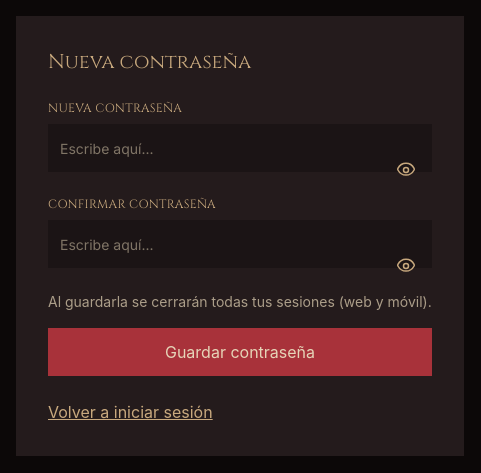
Test case: reset password page › offers a new link when the token is dead, missing or burnt while saving
Earlier steps of the test are not shown.
Later steps or results of the test are not shown.
Type "Nueva#2026" into the password field labelled "Nueva contraseña".
click(240, 148); type("Nueva#2026")  # box [48,124,432,172]
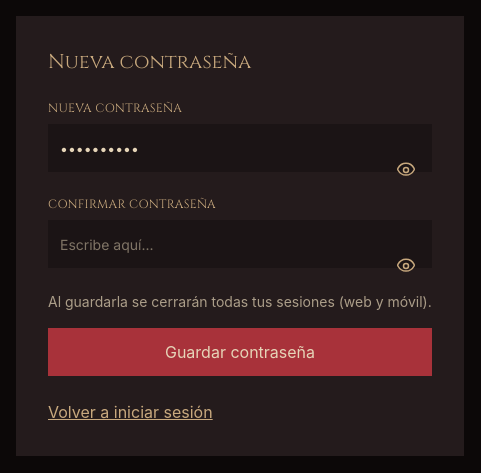
Type "Nueva#2026" into the password field labelled "Confirmar contraseña".
click(240, 244); type("Nueva#2026")  # box [48,220,432,268]
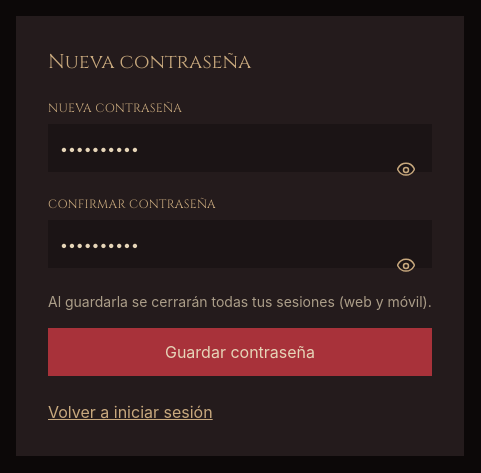
Click the button "Guardar contraseña".
click(240, 352)  # box [48,328,432,376]
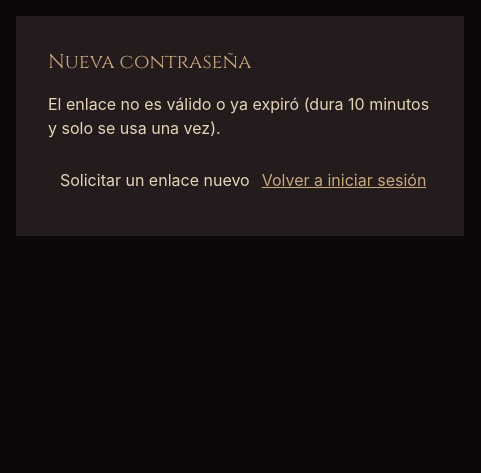
Expected: the message shows "expiró", [48,94,429,138]
